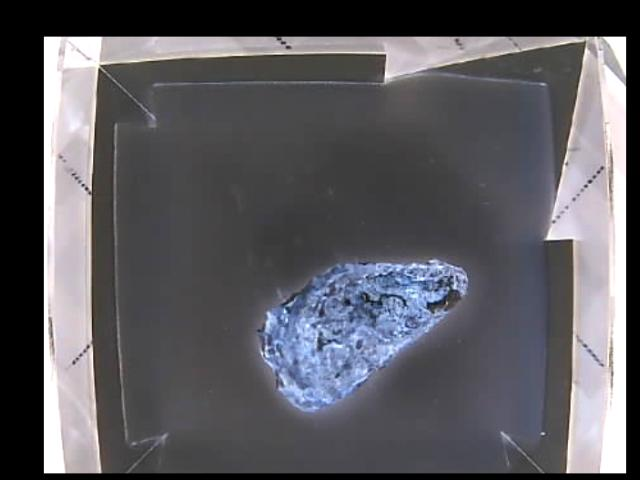Shell: (254, 260, 466, 411)
